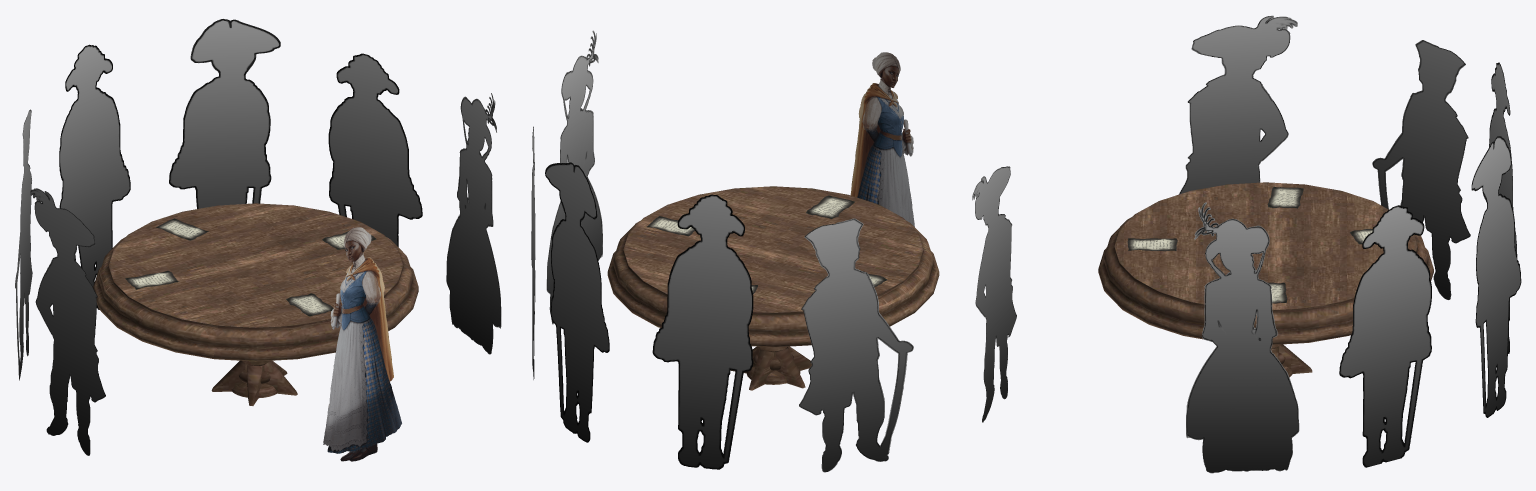
3 renders of one model, left to right at view 1: azimuth 30°, elevation 25°; view 2: azimuth 150°, elevation 25°; view 3: azimuth 270°, elevation 25°, orthographic. The views are drawn at different scales.
Visible parts, largest first — view 1: Table, Agent4, AgentMain, Agent5, Agent1, Agent3, Agent6, Agent2, PaperSouth, PaperWest, PaperNorth; view 2: Table, Agent3, Agent2, Agent4, AgentMain, Agent1, Agent6, Agent5, PaperSouth; view 3: Table, Agent6, Agent5, Agent1, Agent2, Agent4, Agent3, PaperWest, PaperSouth.
Part boxes in pixels (<box>): Table: <box>93,203,418,405</box>; Agent4: <box>169,19,280,208</box>; AgentMain: <box>323,227,401,461</box>; Agent5: <box>328,53,422,246</box>; Agent1: <box>30,188,105,455</box>; Agent3: <box>59,44,130,309</box>; Agent6: <box>446,93,501,354</box>; Agent2: <box>15,109,32,380</box>; PaperSouth: <box>286,293,333,316</box>; PaperWest: <box>125,270,179,289</box>; PaperNorth: <box>155,218,208,240</box>; Table: <box>607,186,939,390</box>; Agent3: <box>652,194,753,469</box>; Agent2: <box>799,218,913,472</box>; Agent4: <box>545,162,609,442</box>; AgentMain: <box>850,52,914,226</box>; Agent1: <box>972,166,1016,422</box>; Agent6: <box>546,30,602,324</box>; Agent5: <box>531,126,535,379</box>; PaperSouth: <box>806,195,854,219</box>; Table: <box>1098,182,1433,377</box>; Agent6: <box>1186,202,1299,473</box>; Agent5: <box>1339,205,1431,467</box>; Agent1: <box>1178,15,1297,194</box>; Agent2: <box>1372,40,1470,299</box>; Agent4: <box>1471,136,1521,417</box>; Agent3: <box>1489,62,1517,353</box>; PaperWest: <box>1267,186,1303,208</box>; PaperSouth: <box>1127,238,1177,251</box>.
Size of what is drawn, in the model's own units: 3.11 by 2.97 by 2.04.
Materials: 4 (4 with a texture image).
